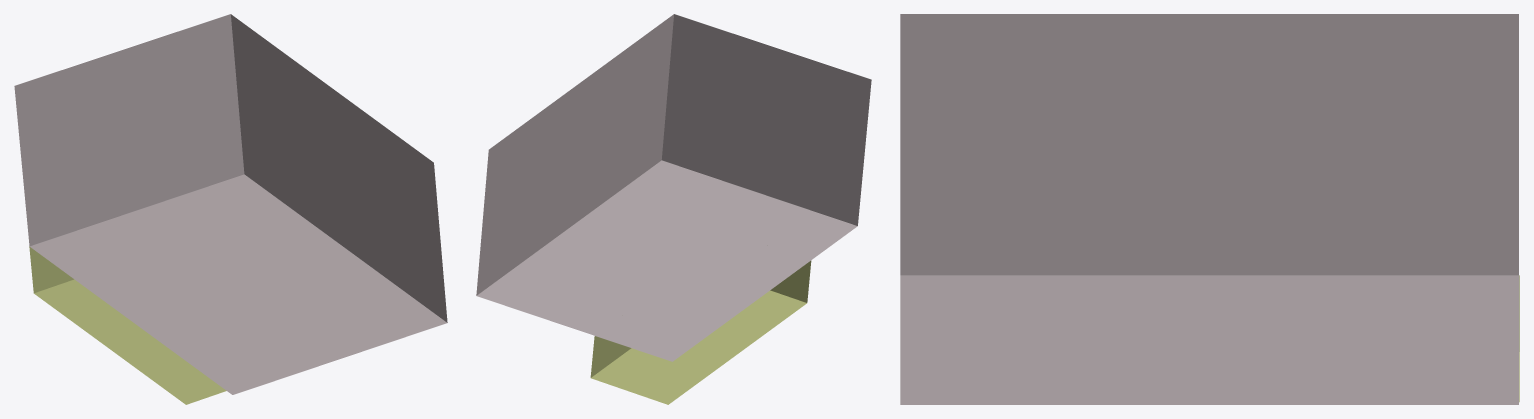
3 views of the same model, side by side, from view 1: azimuth 30°, elevation 25°; view 2: azimuth 150°, elevation 25°; view 3: azimuth 270°, elevation 25° (orthographic). The views are drawn at different scales.
Visible parts, largest first — view 1: 0_2_3_3_3_1_0_3_2_1_1; view 2: 0_2_3_3_3_1_0_3_2_1_1; view 3: 0_2_3_3_3_1_0_3_2_1_1.
Boxes of the visible parts, bbox=[...] form: 0_2_3_3_3_1_0_3_2_1_1: bbox=[14, 14, 447, 404]; 0_2_3_3_3_1_0_3_2_1_1: bbox=[476, 14, 871, 404]; 0_2_3_3_3_1_0_3_2_1_1: bbox=[900, 14, 1519, 404].
Size of the model in its own units: 7.84 by 7.55 by 12.01.
